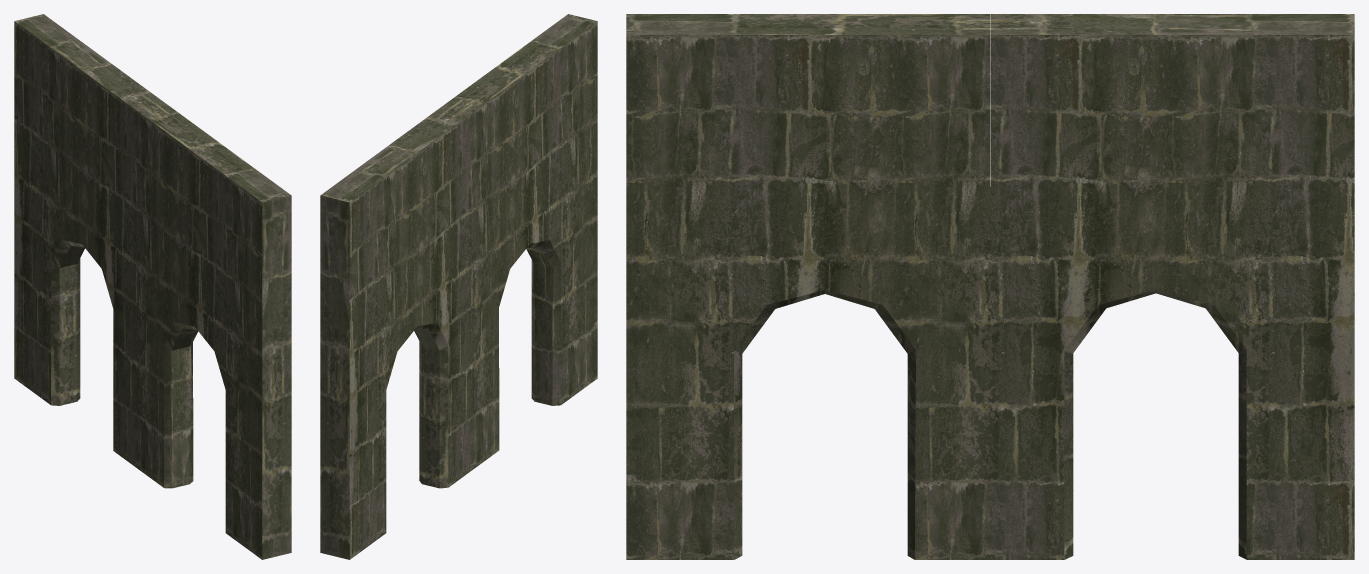
Rendered from Wall_DualDoorway.fbx.
The picture shows the model from 3 angles, left to right: view 1: azimuth 30°, elevation 25°; view 2: azimuth 150°, elevation 25°; view 3: azimuth 270°, elevation 25°; orthographic projection. The views are drawn at different scales.
Parts seen in each view (by area): view 1: DualDoorway; view 2: DualDoorway; view 3: DualDoorway.
Boxes of the visible parts, left/top/right/bottom form: DualDoorway: left=14, top=14, right=291, bottom=559; DualDoorway: left=320, top=14, right=597, bottom=559; DualDoorway: left=626, top=14, right=1354, bottom=559.
Size of the model in its own units: 51 by 595 by 748.
